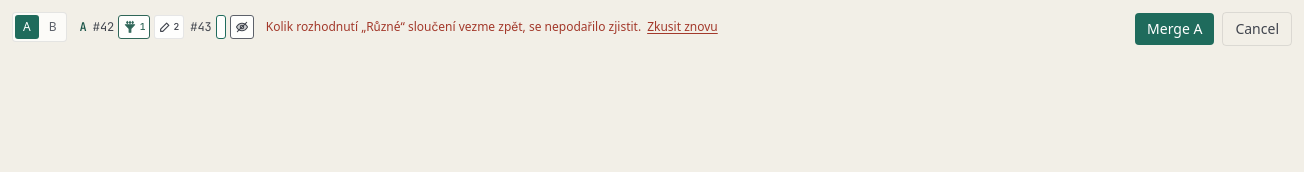
Test case: <MergeBar> › a count it could not read is said, with a retry, never shown as none
The image size is (1304, 172).
Check: the text "Kolik rozhodnutí „Různé“ sloučení vezme zpět, se nepodařilo zjistit." is shown, box [266,18,641,35]
Check: the button "Merge A" is enabled, box [1135,13,1214,45]
Click the button "Zkusit znovu" at (682, 27), box [647,18,718,36]
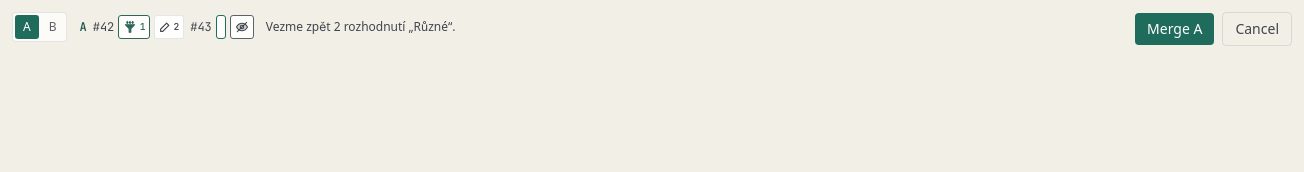
Check: the text "Vezme zpět 2 rozhodnutí „Různé“." is shown, box [266,18,456,36]
